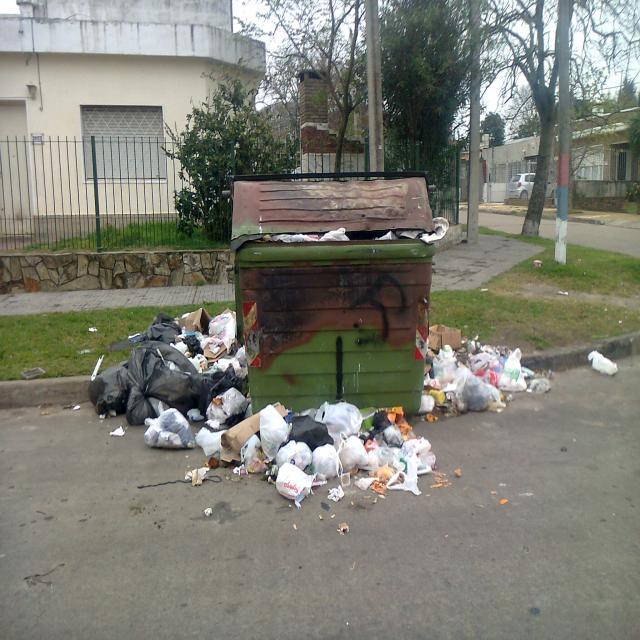garbage: (223, 401, 414, 496), (110, 315, 242, 439), (423, 330, 537, 416)
